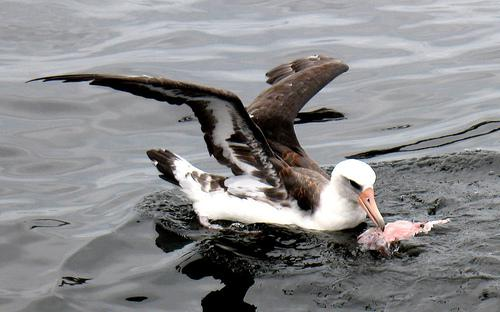002.Laysan_Albatross: (26, 52, 388, 234)
